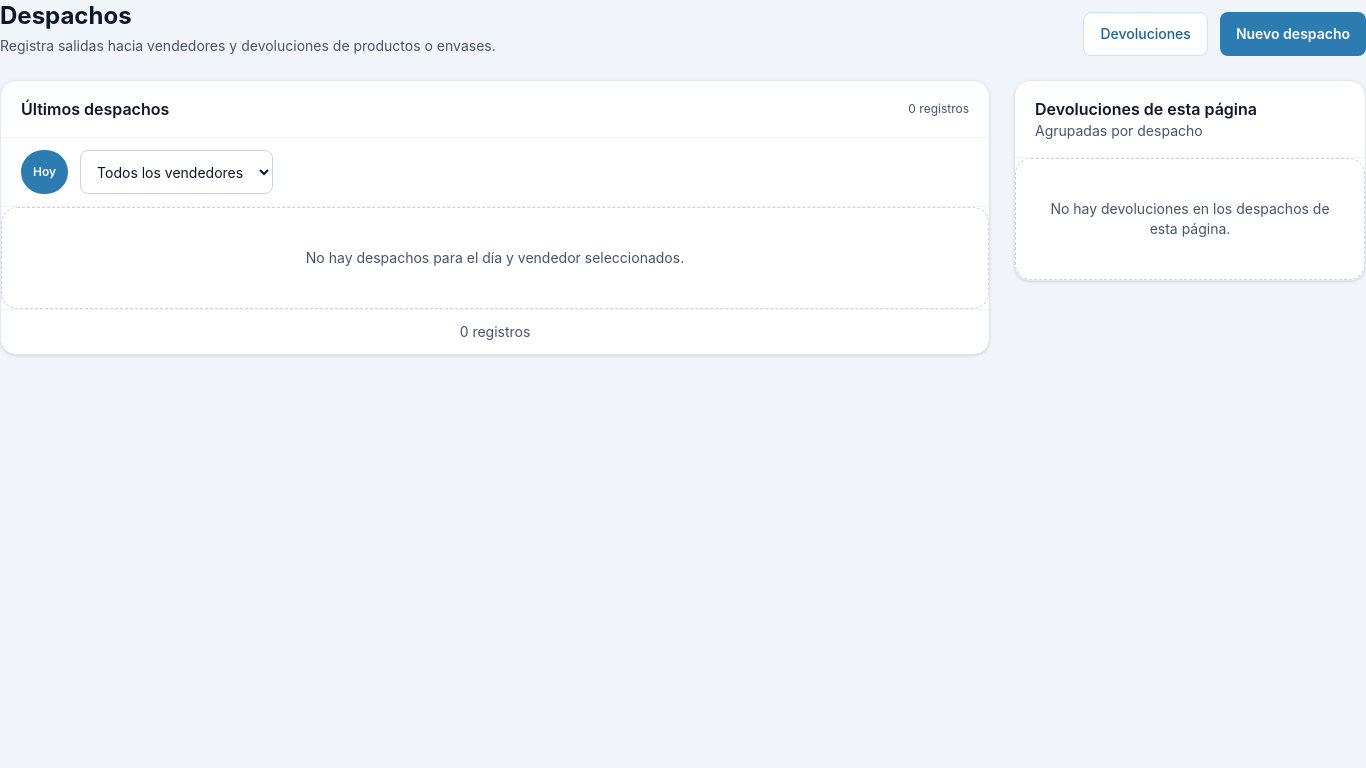
Scenario: FX R1-01/03 · muestra validación y etiquetas visibles dentro del diálogo
What coordinates should you click on to do the following:
click the button "Nuevo despacho"
I would click on:
 (1293, 34)
Its box is [1220, 12, 1365, 56].
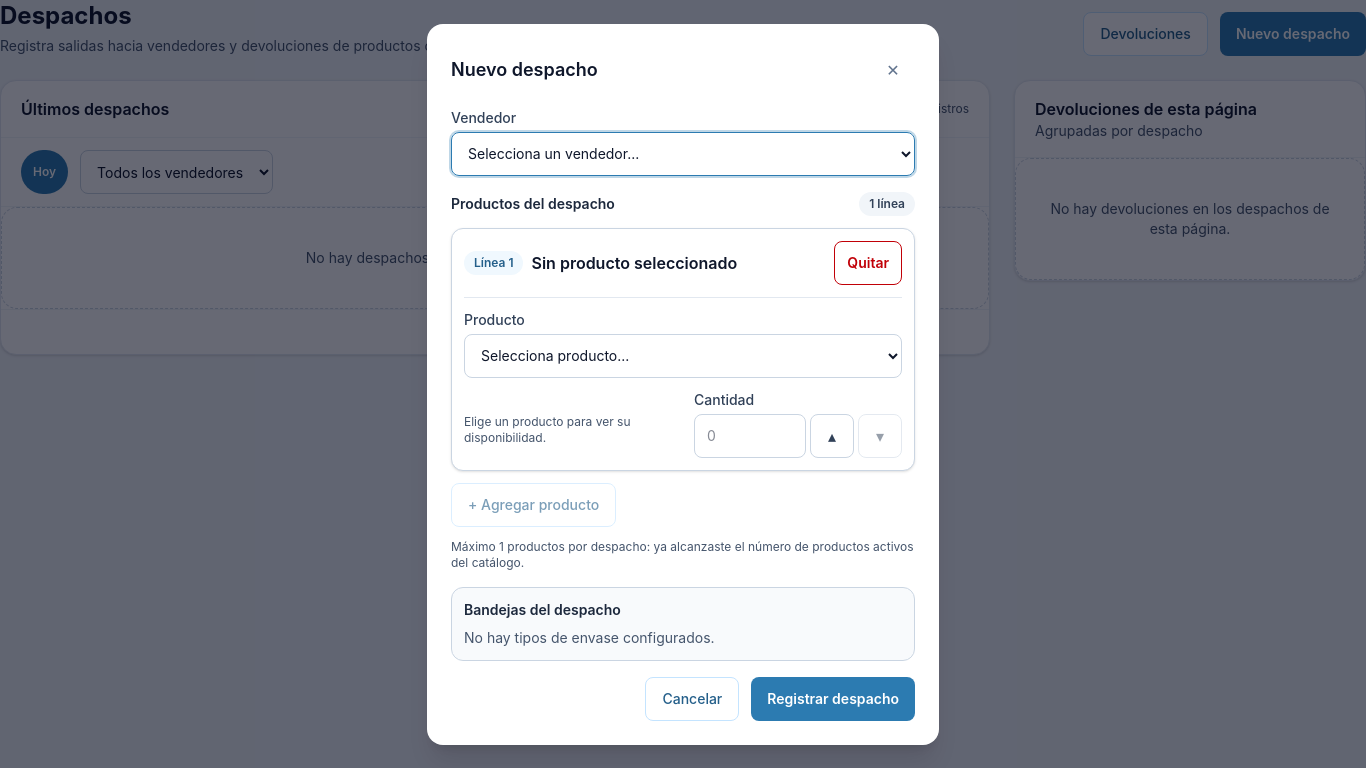
What coordinates should you click on to do the following:
click the button "Registrar despacho"
I would click on:
 (833, 698)
Its box is [751, 676, 915, 720].
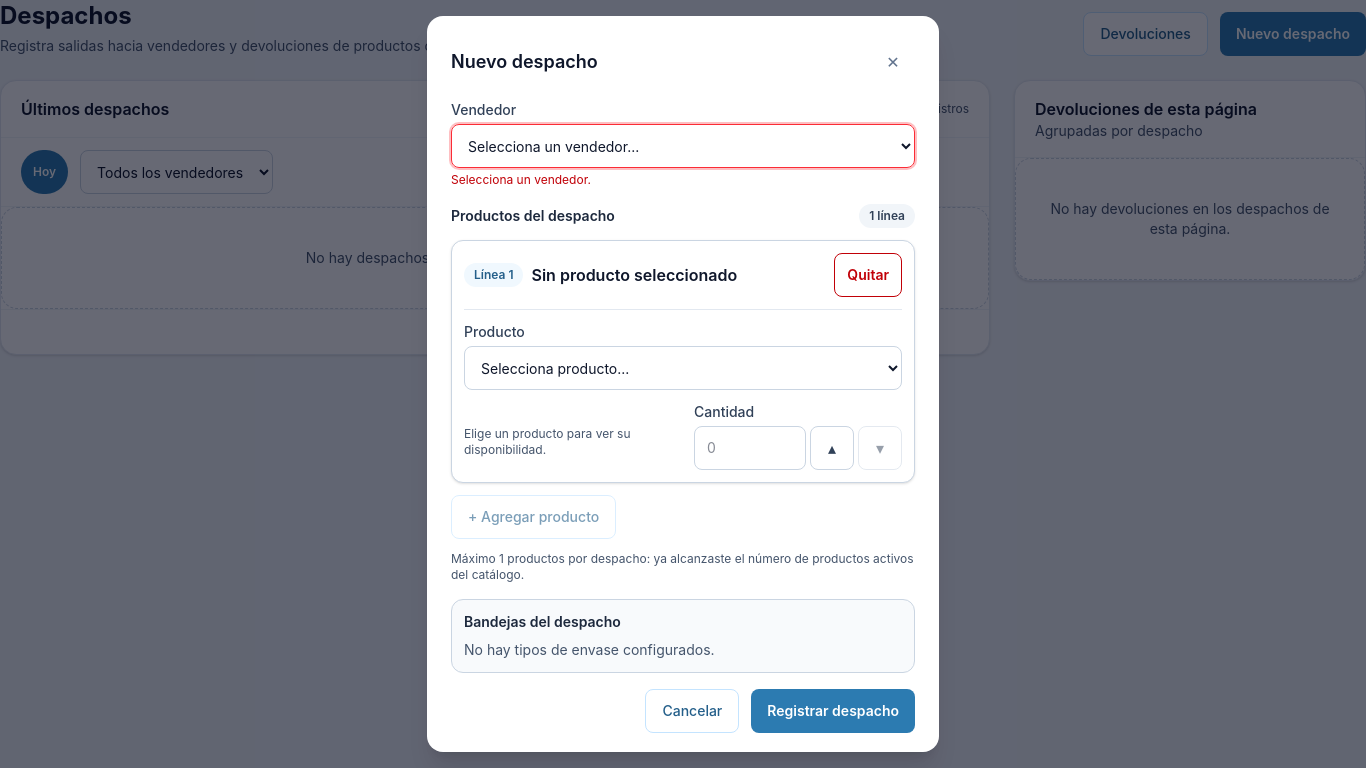
Now the message shows "Selecciona un vendedor", box [451, 172, 591, 187]
